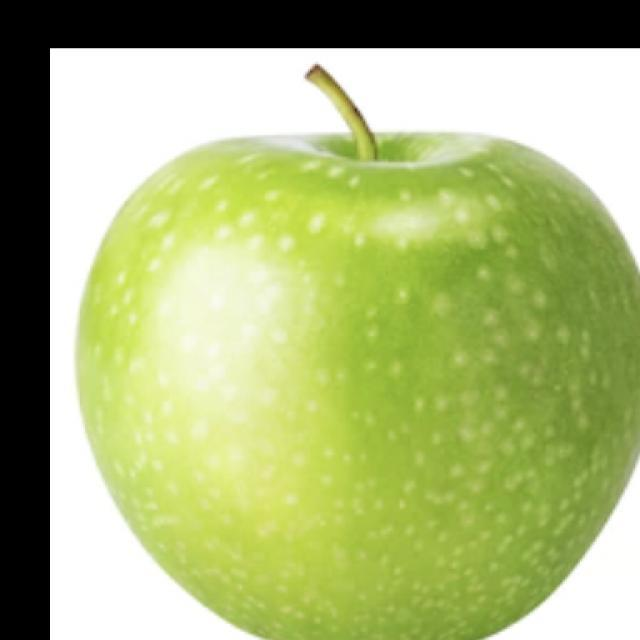Fresh Apple: (72, 112, 640, 640)
